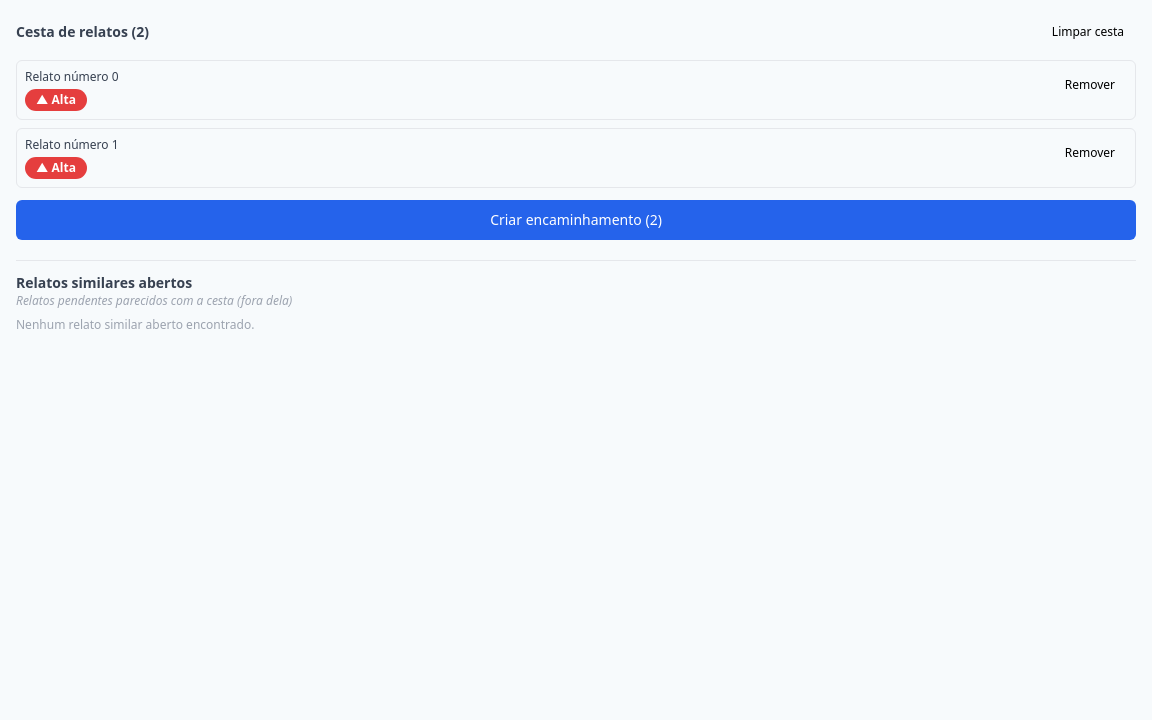
Test: CestaView › opens the create forwarding dialog
The image size is (1152, 720).
Click the button "Criar encaminhamento (2)" at {"x": 576, "y": 220}, box [16, 200, 1136, 240]
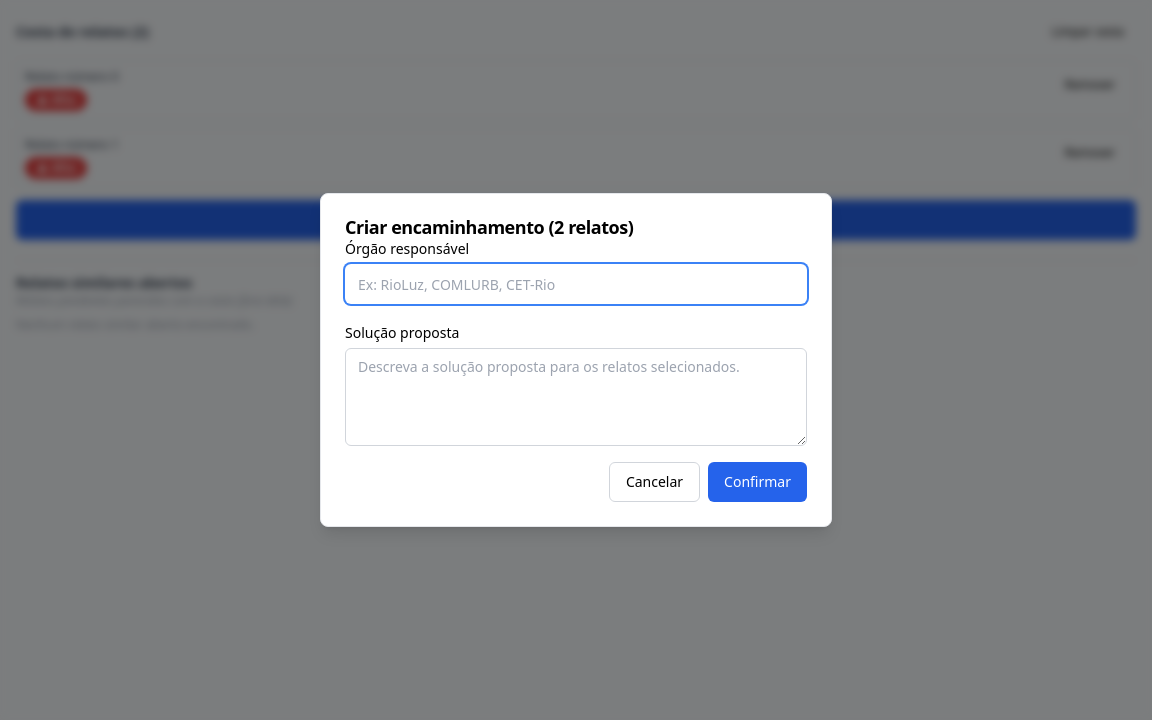
Expected: the heading "Criar encaminhamento (2 relatos)" is shown, [345, 215, 633, 239]
